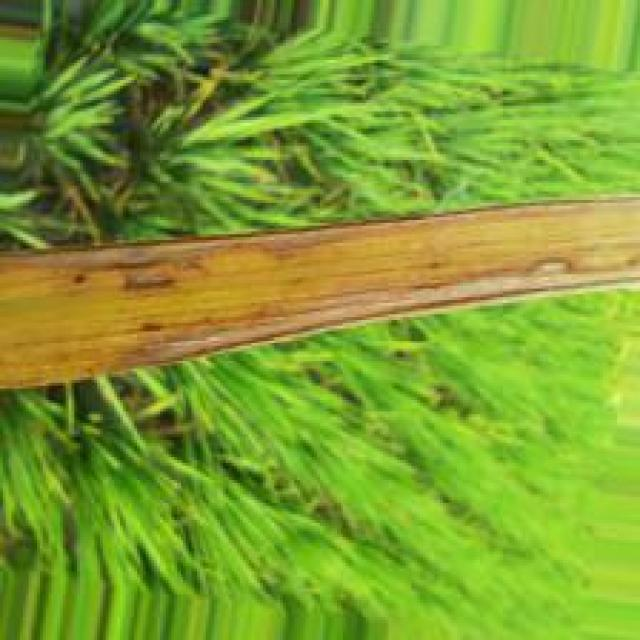Bacterial_Leaf_Blight: (115, 252, 640, 370), (0, 195, 636, 292)
